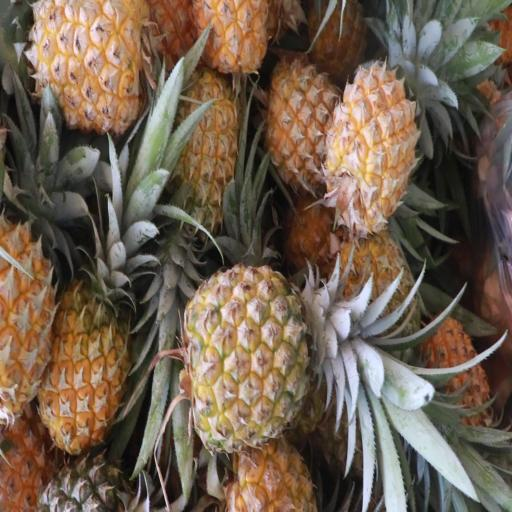------------------------------: (158, 244, 356, 435)
Pineapple - v8 v1: (38, 200, 136, 467), (22, 3, 168, 136), (315, 68, 429, 223), (168, 68, 246, 228), (258, 39, 333, 180)
